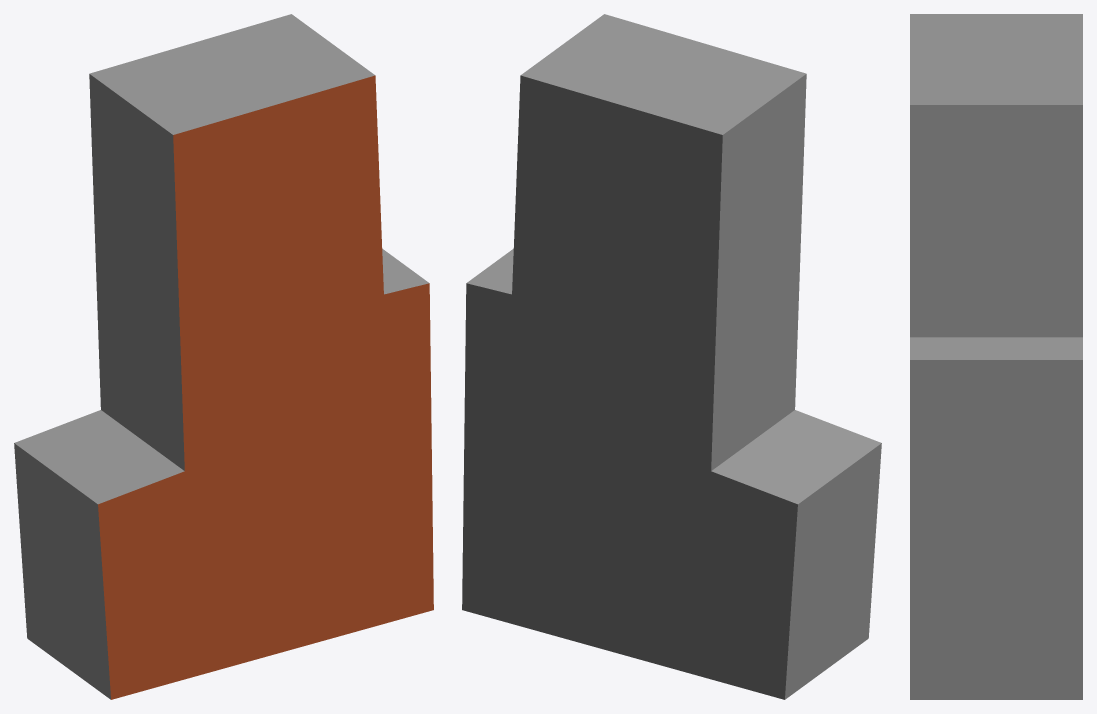
Rendered from construction_5593_assumed_A_Casa_h6m.obj.
3 views of the same model, side by side, from view 1: azimuth 30°, elevation 25°; view 2: azimuth 150°, elevation 25°; view 3: azimuth 270°, elevation 25° (orthographic). The views are drawn at different scales.
Parts seen in each view (by area): view 1: construction_5593_assumed_A_Casa; view 2: construction_5593_assumed_A_Casa; view 3: construction_5593_assumed_A_Casa.
Part boxes in pixels (x1,y1,x2,y2): construction_5593_assumed_A_Casa: (14, 14, 433, 699); construction_5593_assumed_A_Casa: (462, 14, 881, 699); construction_5593_assumed_A_Casa: (910, 14, 1082, 699).
Bounding box in the file's own units: 13.87 × 22.09 × 6.
